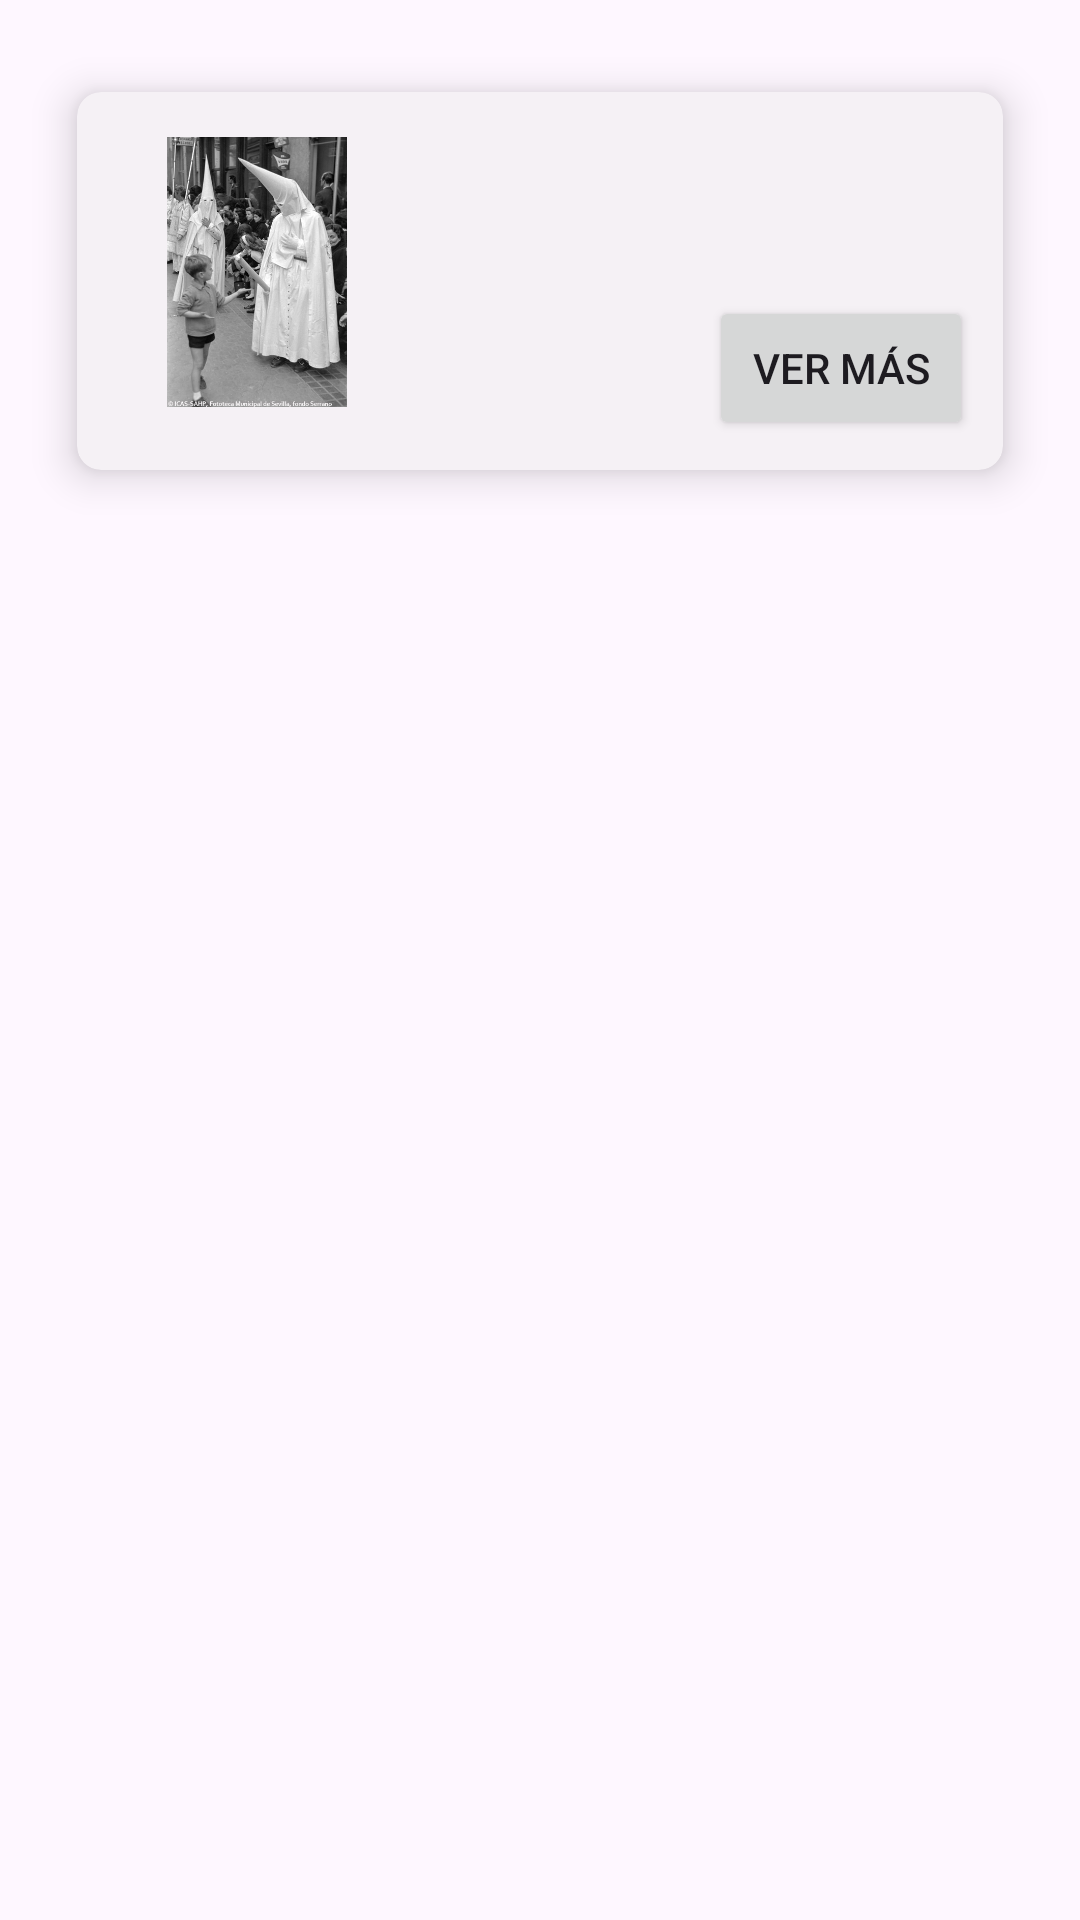

Icons on this 1080w x 1920h Android screen, each with its box as (x1, y1, x2, y2):
penitente: (167, 137, 347, 407)
